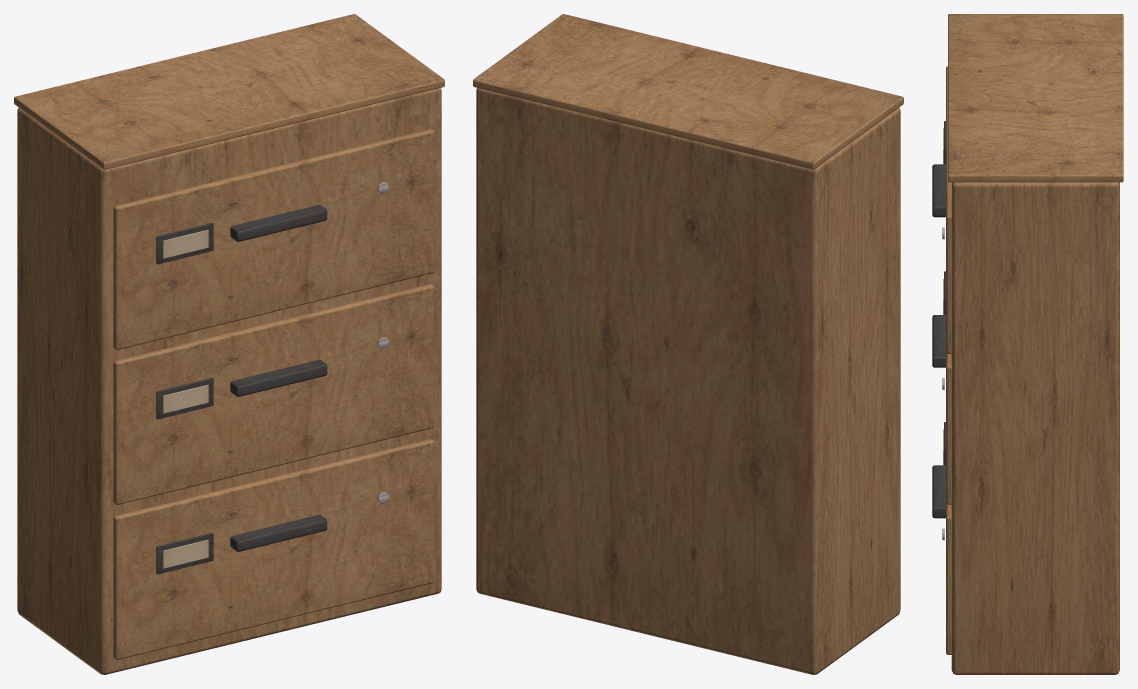
Rendered from SM_FacilityRooms_FileCabinet.fbx.
The picture shows the model from 3 angles, left to right: view 1: azimuth 30°, elevation 25°; view 2: azimuth 150°, elevation 25°; view 3: azimuth 270°, elevation 25°; orthographic projection. The views are drawn at different scales.
Parts seen in each view (by area): view 1: SM_FacilityRooms_FileCabinet; view 2: SM_FacilityRooms_FileCabinet; view 3: SM_FacilityRooms_FileCabinet.
Boxes of the visible parts, x1=… form: SM_FacilityRooms_FileCabinet: x1=14, y1=14, x2=444, y2=674; SM_FacilityRooms_FileCabinet: x1=473, y1=14, x2=903, y2=674; SM_FacilityRooms_FileCabinet: x1=932, y1=14, x2=1123, y2=674.
Size of what is drawn, in the model's own units: 90 by 45 by 130.
